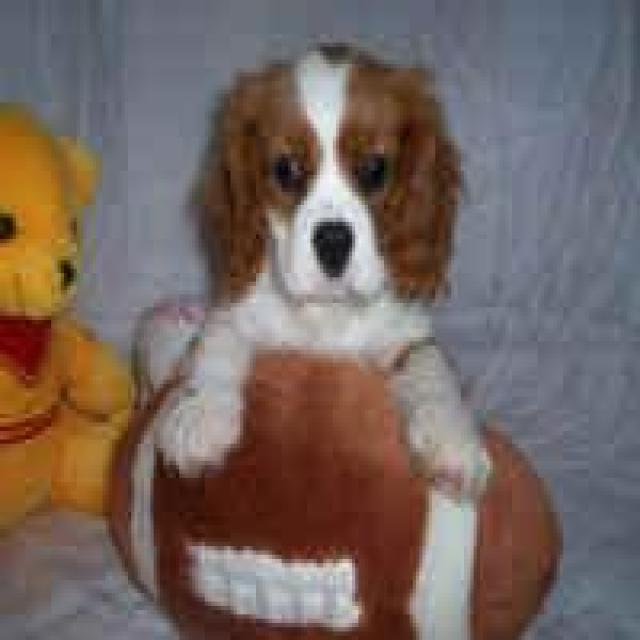blenheim_spaniel: (154, 42, 499, 508)
